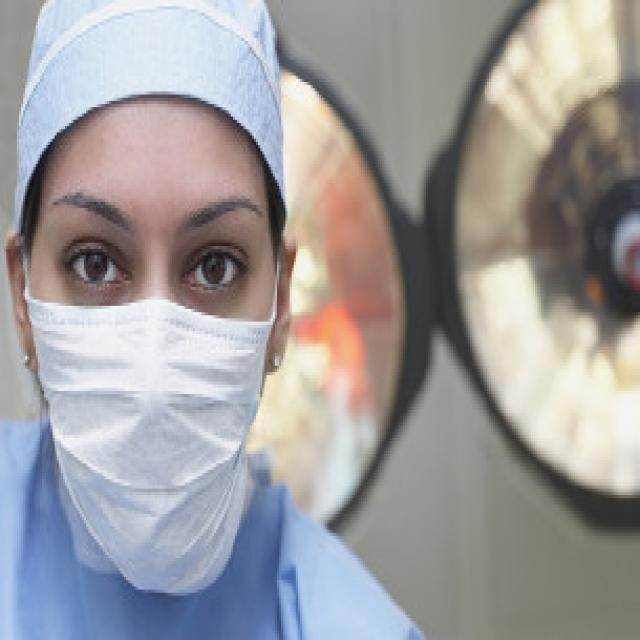mask: (34, 107, 272, 580)
